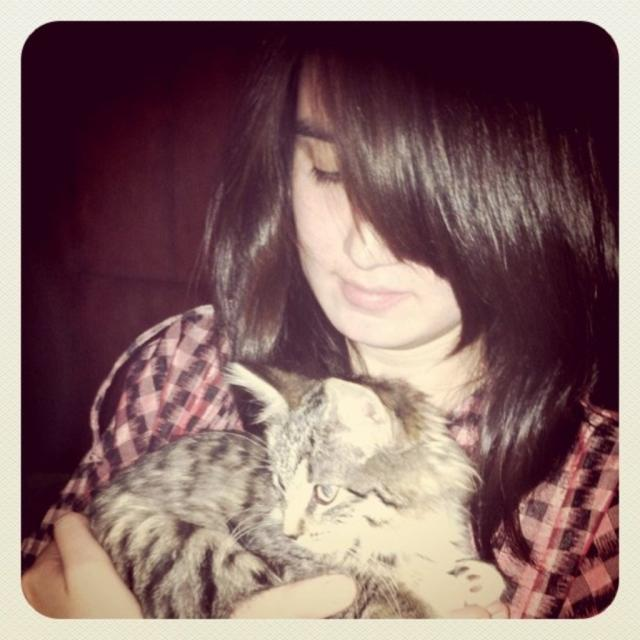Cat: (88, 358, 504, 618)
